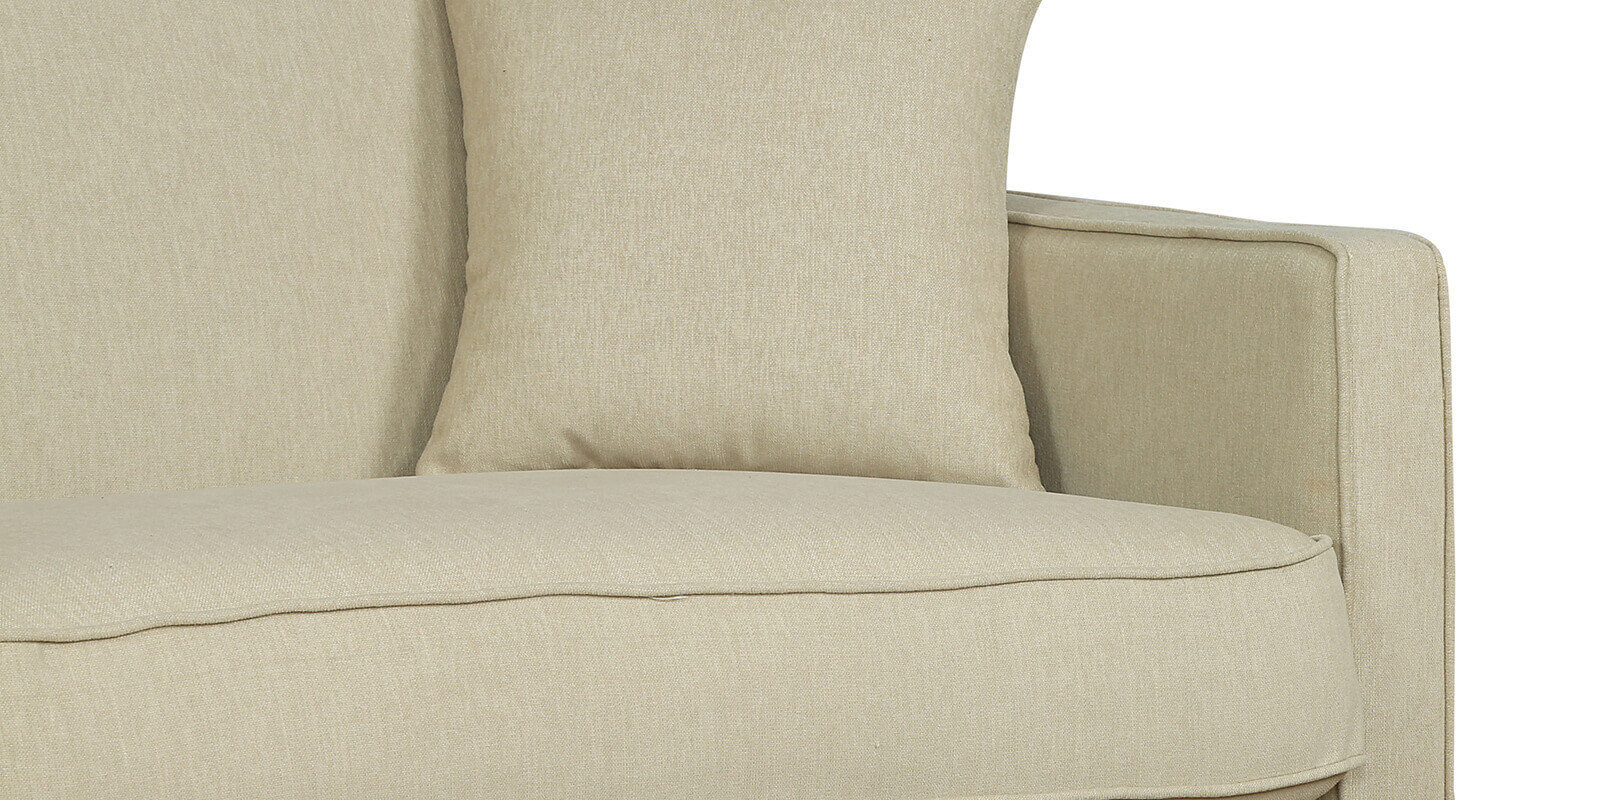Oscar Three Seater Sofa in Beige Colour by CasaCraft: (13, 3, 1453, 800)
